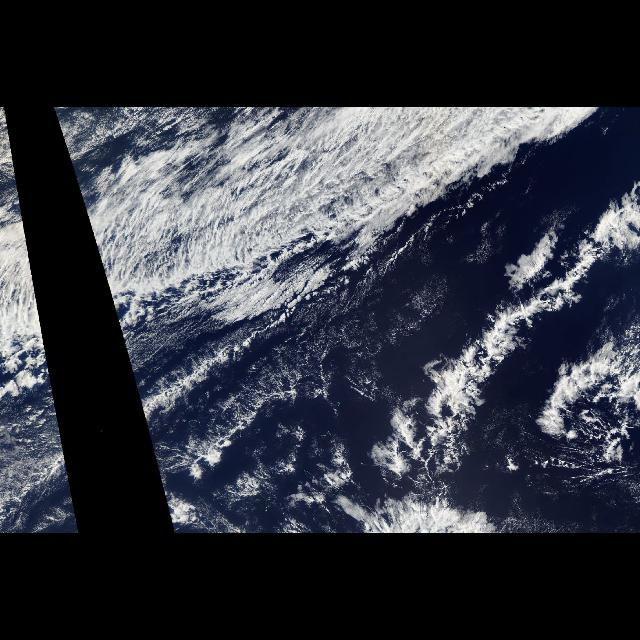Fish: (386, 180, 630, 522)
